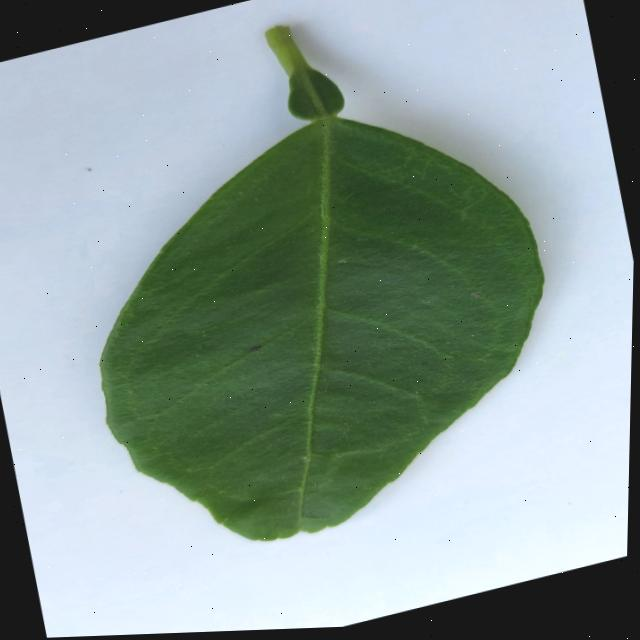greening: (100, 116, 542, 539)
